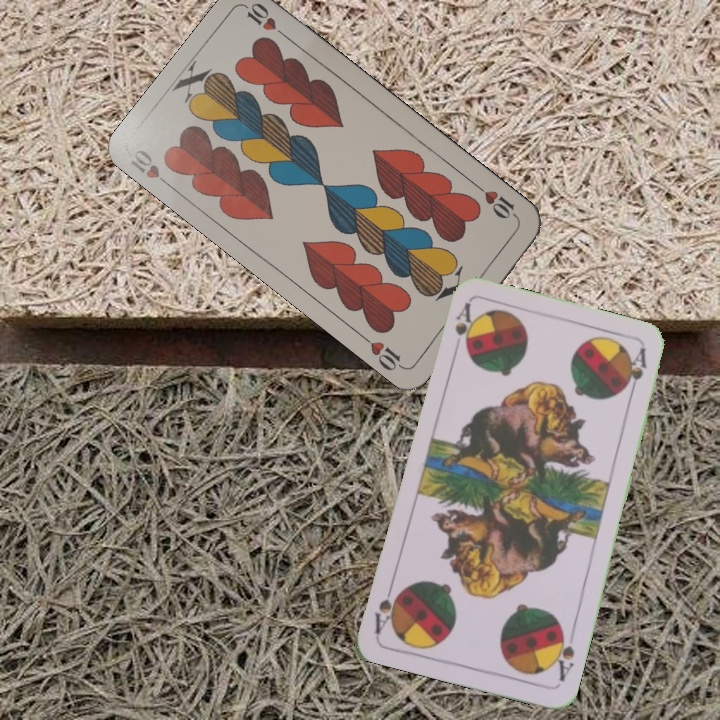H10: (126, 145, 176, 194), (472, 180, 522, 223)
SA: (548, 625, 577, 685), (449, 299, 476, 357)
